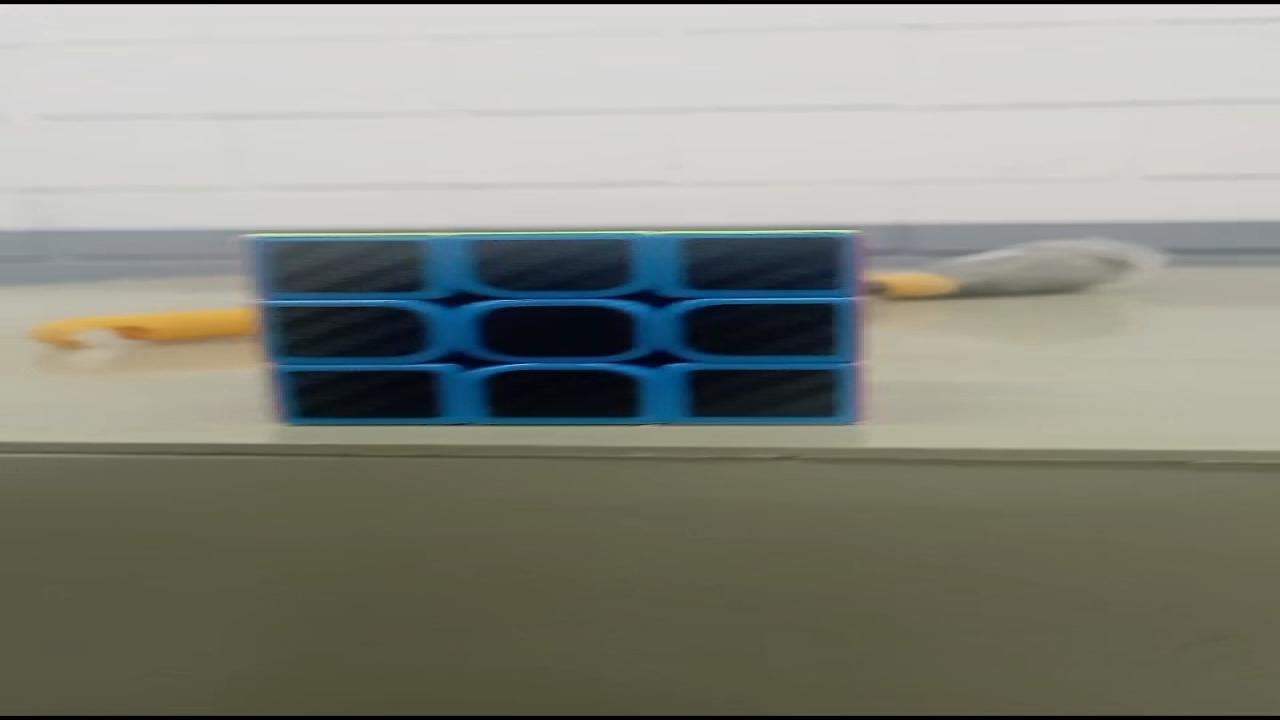Cube: (237, 228, 872, 427)
